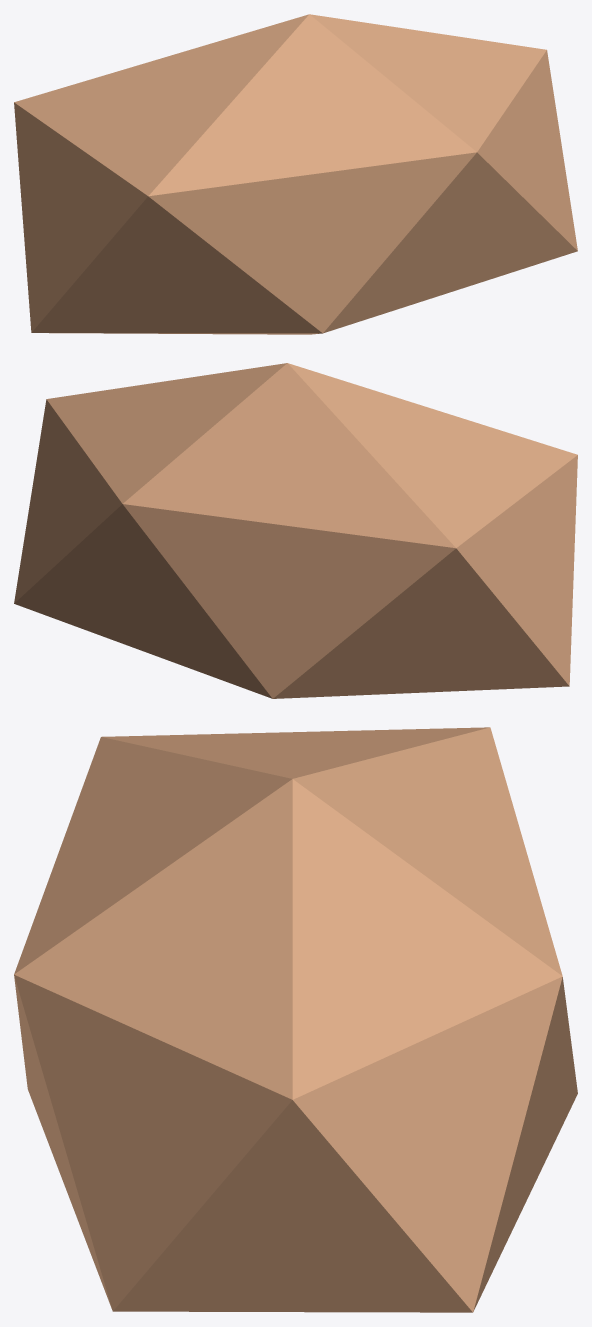
The model's file is item_007_clay_s.glb.
3 renders of one model, top to bottom at view 1: azimuth 30°, elevation 25°; view 2: azimuth 150°, elevation 25°; view 3: azimuth 270°, elevation 25°, orthographic. The views are drawn at different scales.
Visible parts, largest first — view 1: item_007_clay_s; view 2: item_007_clay_s; view 3: item_007_clay_s.
Boxes of the visible parts, x1=… form: item_007_clay_s: x1=14, y1=14, x2=577, y2=334; item_007_clay_s: x1=14, y1=363, x2=577, y2=698; item_007_clay_s: x1=14, y1=727, x2=577, y2=1312.
Bounding box in the file's own units: 0.3145 × 0.1868 × 0.1945.
